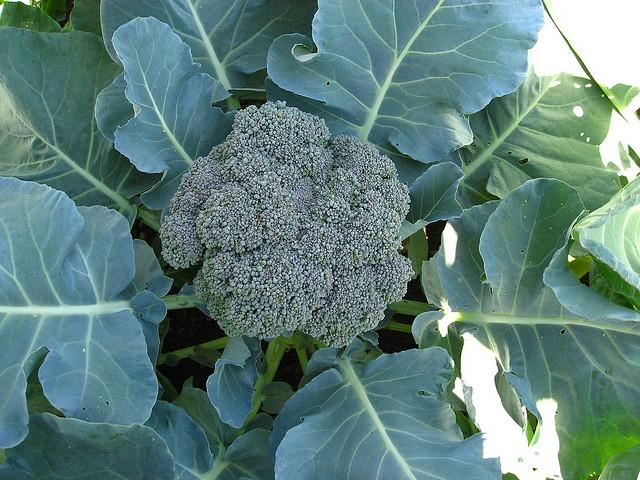broccoli: (158, 100, 416, 348)
